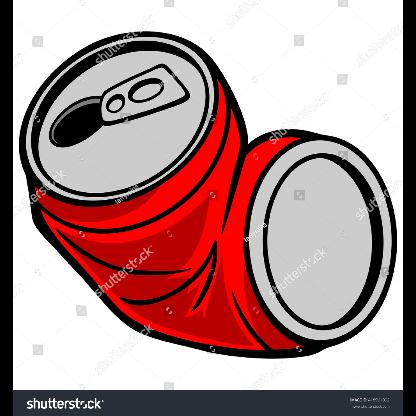Dent_Can: (34, 92, 300, 343)
Lid_Open: (30, 64, 194, 164)
Tin_Can: (18, 24, 400, 361)
